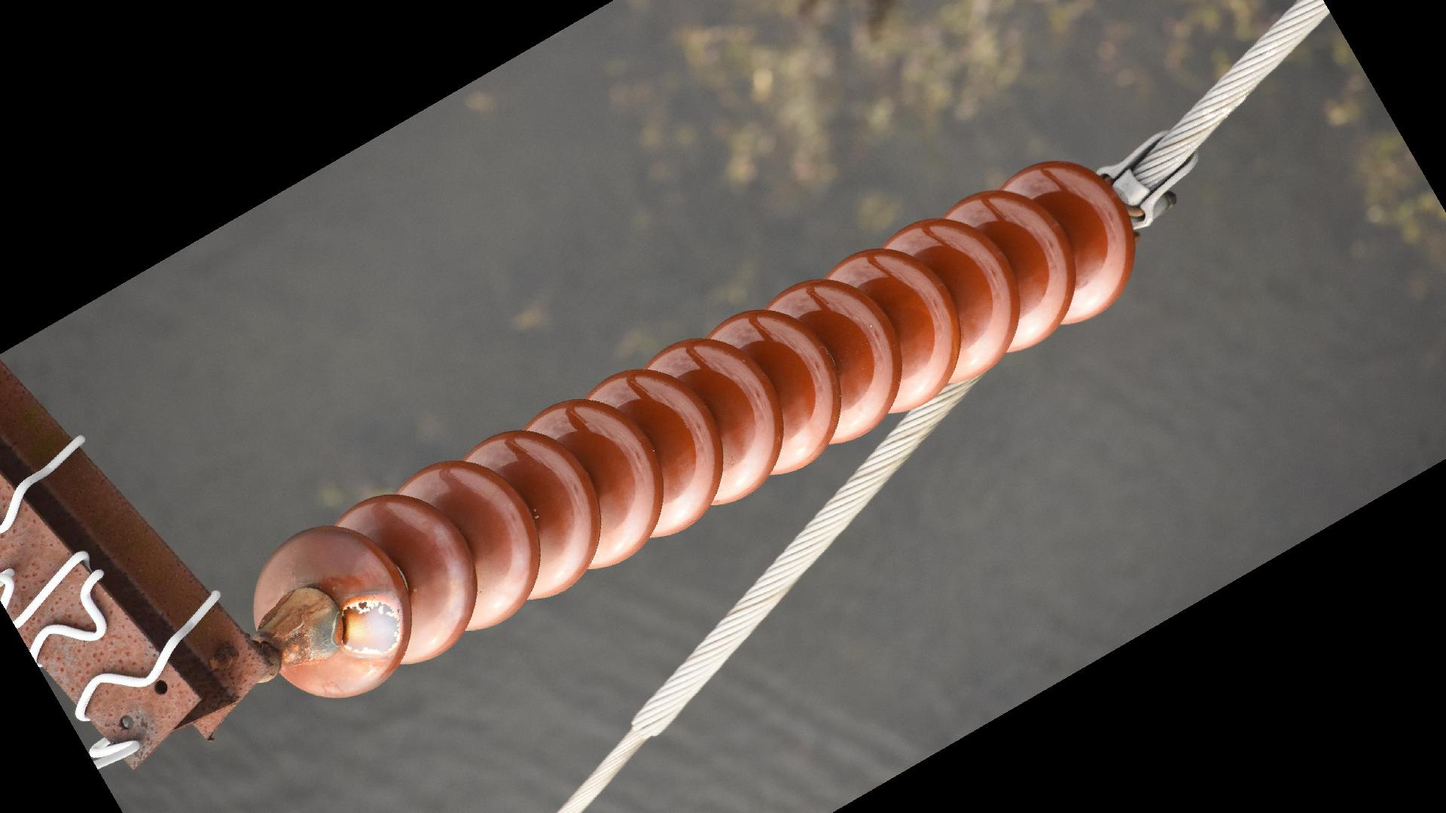insulator: (246, 155, 1146, 704)
insulator_flashover: (337, 598, 402, 656)
